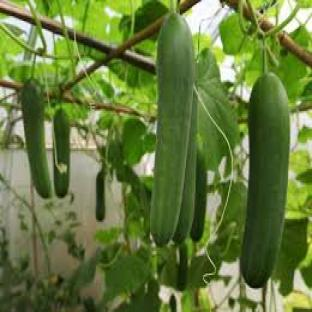Cucumber: (150, 13, 195, 246), (240, 74, 289, 287), (21, 79, 51, 197), (173, 102, 196, 244), (190, 148, 207, 241), (53, 108, 69, 197), (177, 243, 188, 291), (96, 168, 105, 221), (170, 295, 177, 311)
